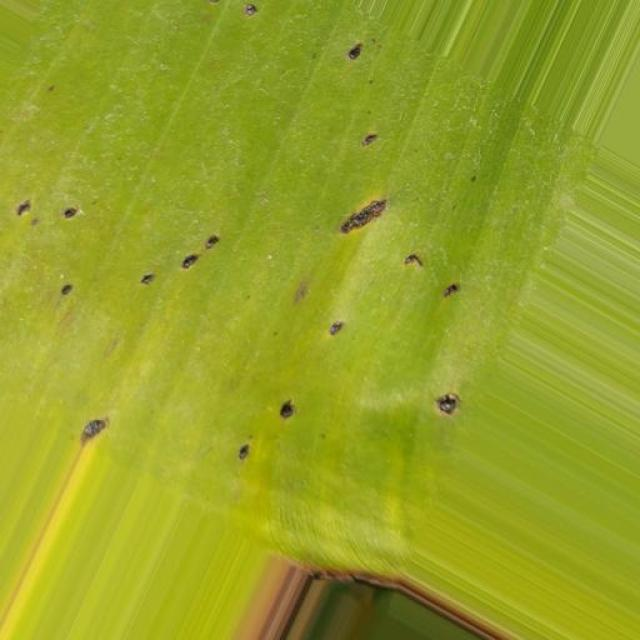Black_rot: (9, 37, 621, 640)
